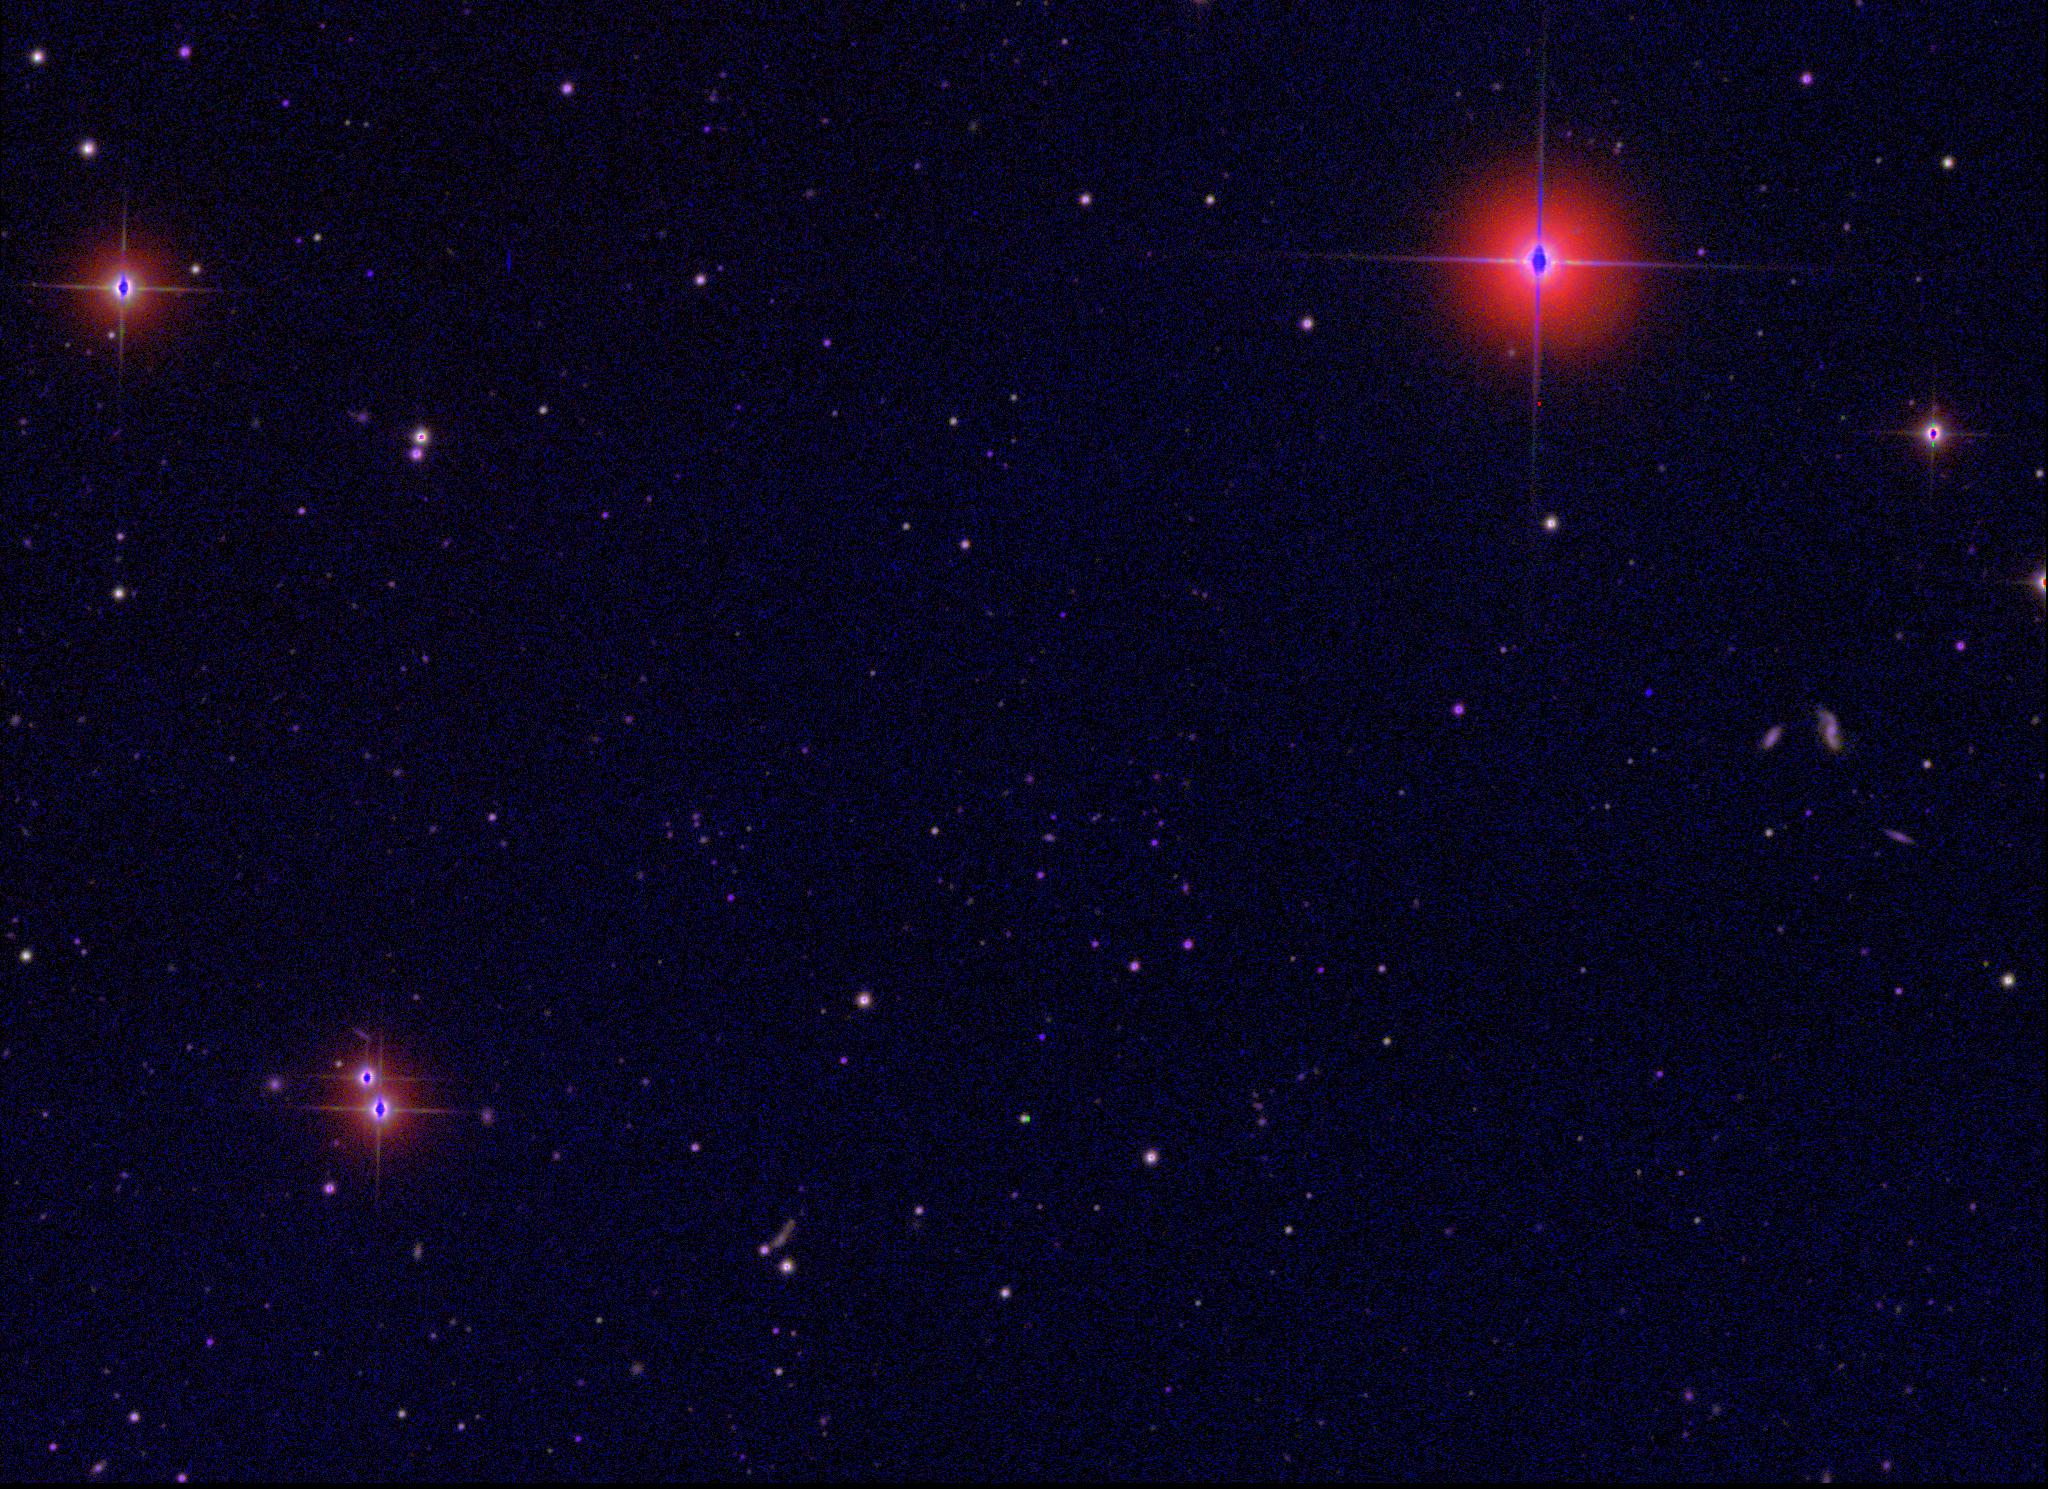L: (1643, 686, 1655, 698)
